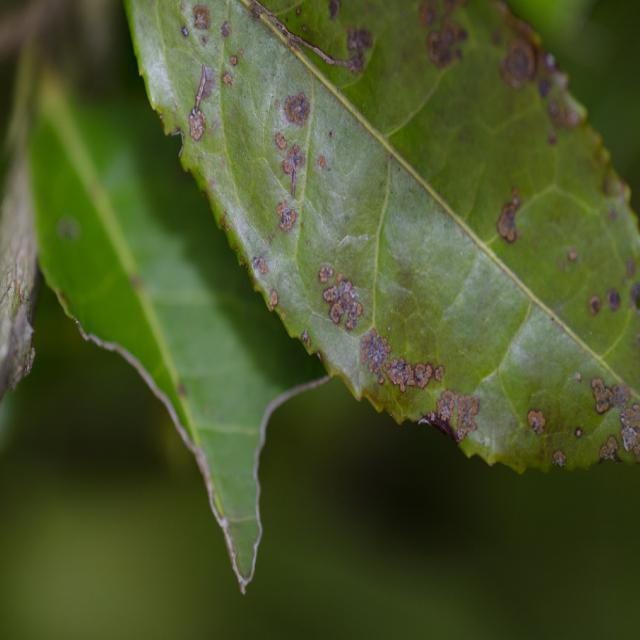Tea red rust: (175, 2, 639, 446)
